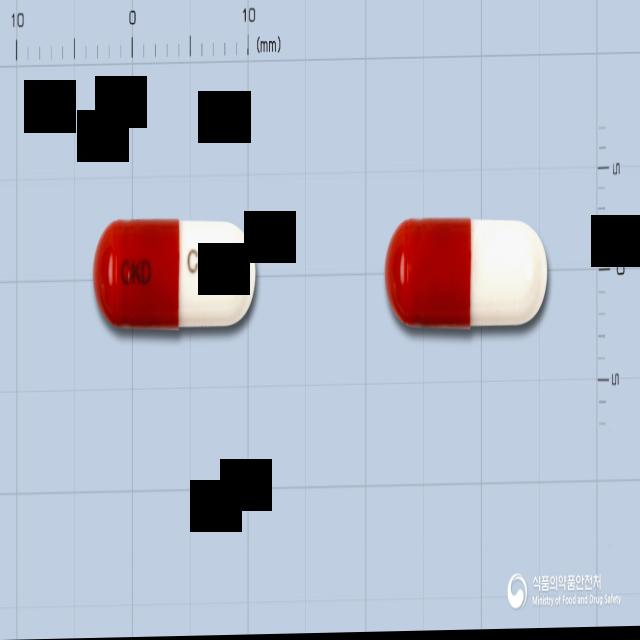Pocef Cap: (384, 218, 549, 333), (94, 216, 256, 332)
